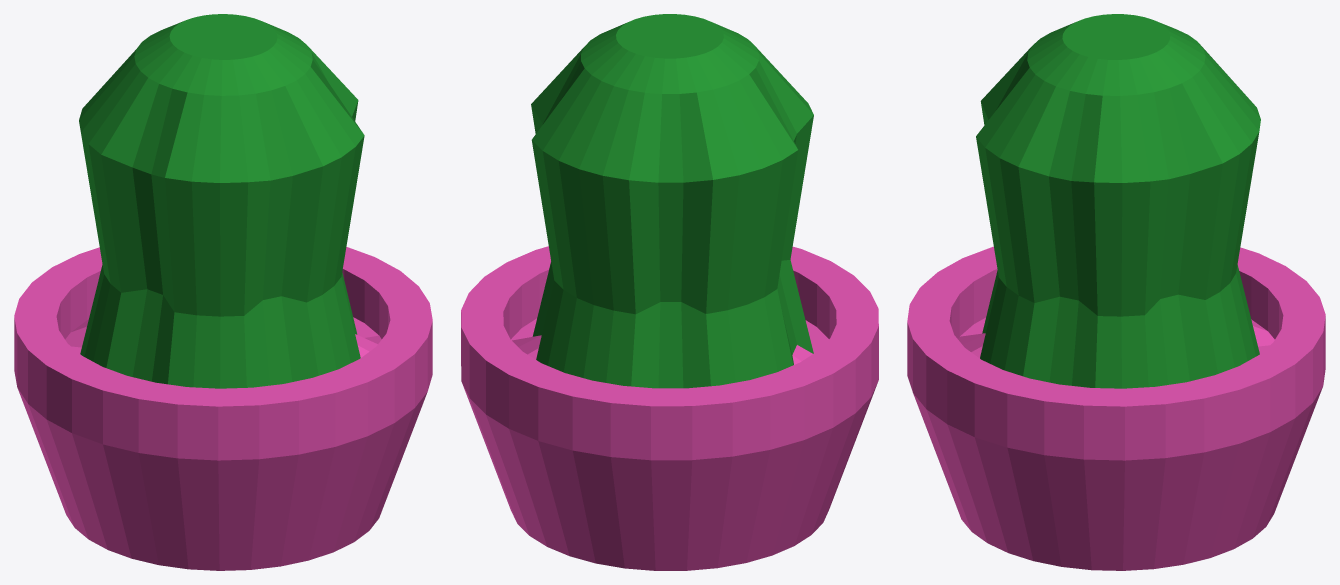
File: cactus2.fbx
The picture shows the model from 3 angles, left to right: view 1: azimuth 30°, elevation 25°; view 2: azimuth 150°, elevation 25°; view 3: azimuth 270°, elevation 25°; orthographic projection.
Visible parts, largest first — view 1: cactus; view 2: cactus; view 3: cactus.
Boxes of the visible parts, box(x1,y1,x2,y2) form: cactus: box(14, 14, 432, 570); cactus: box(461, 14, 878, 570); cactus: box(907, 14, 1325, 570).
Size of the model in its own units: 22.76 by 28.03 by 22.76.
